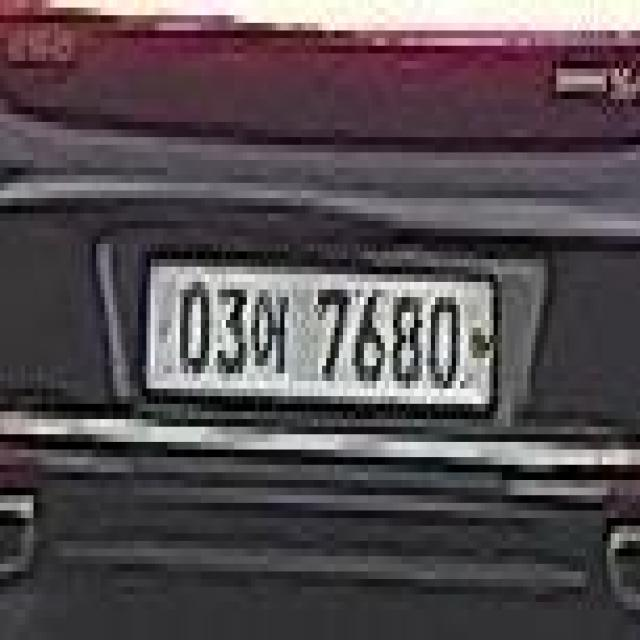illegal_plate: (142, 243, 503, 432)
